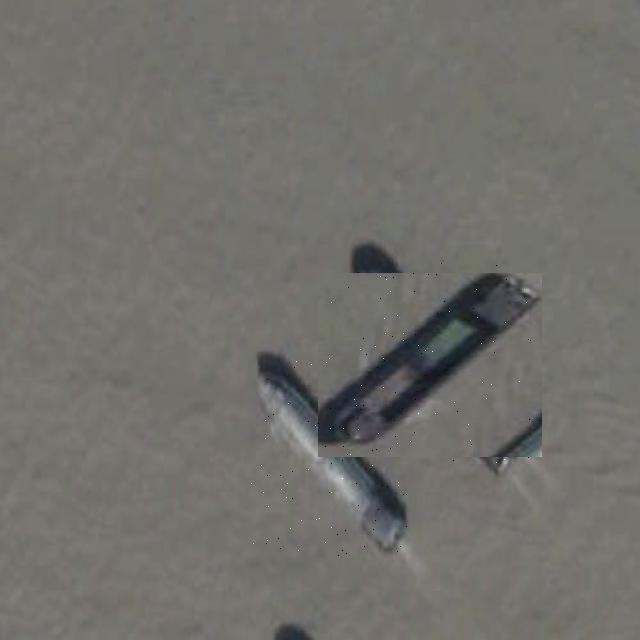boat: (328, 263, 533, 467), (250, 360, 407, 556)
